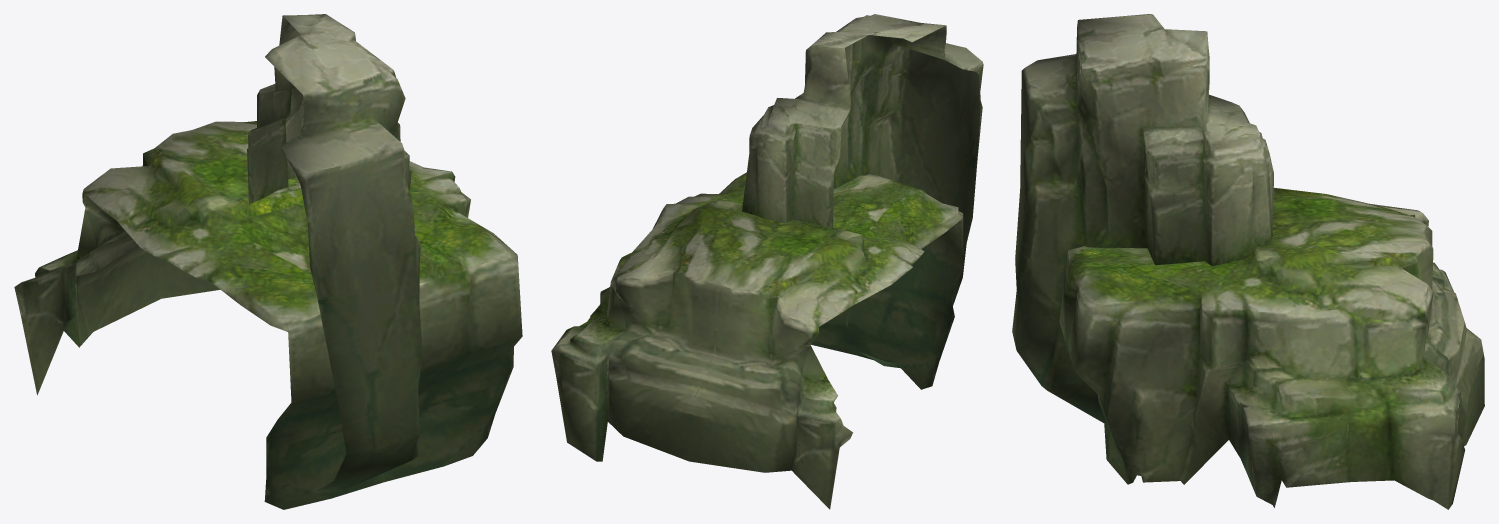
The model's file is S_Rock_Green055_1060_1.fbx.
The picture shows the model from 3 angles, left to right: view 1: azimuth 30°, elevation 25°; view 2: azimuth 150°, elevation 25°; view 3: azimuth 270°, elevation 25°; orthographic projection. The views are drawn at different scales.
Parts seen in each view (by area): view 1: S_Rock_Green055_1060_1; view 2: S_Rock_Green055_1060_1; view 3: S_Rock_Green055_1060_1.
Part boxes in pixels (x1,y1,x2,y2): S_Rock_Green055_1060_1: [14, 14, 522, 509]; S_Rock_Green055_1060_1: [551, 14, 983, 509]; S_Rock_Green055_1060_1: [1012, 14, 1484, 509].
Size of the model in its own units: 1095 by 1226 by 1310.
